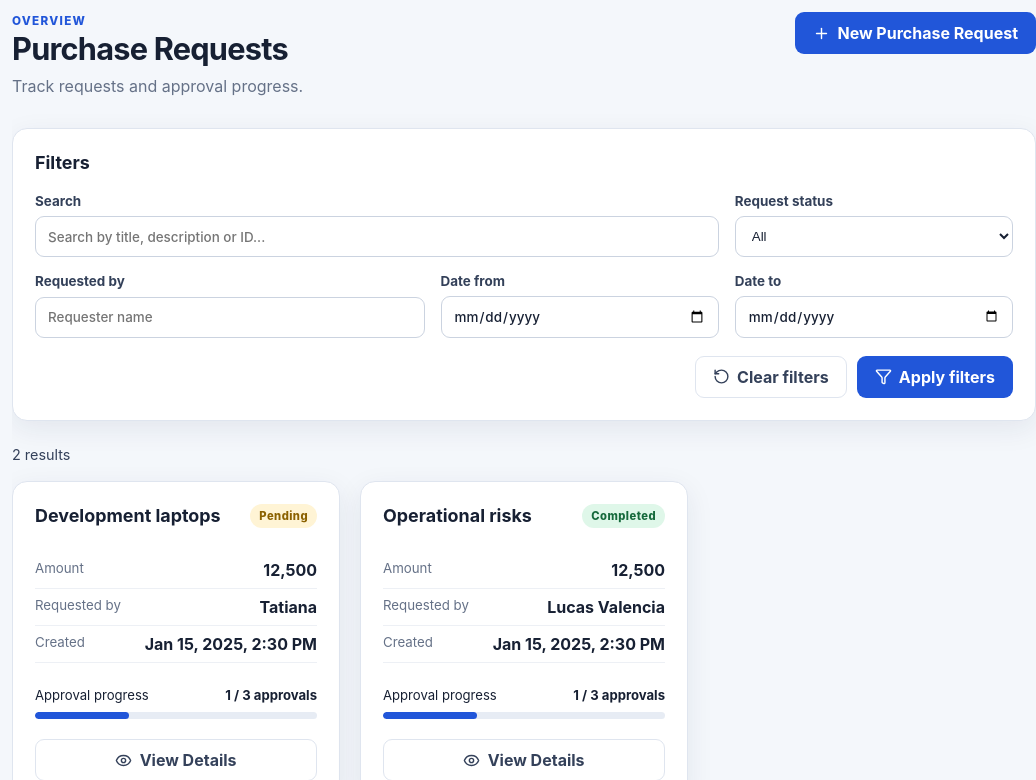
Scenario: DashboardPage › applies and clears combined filters and shows the filtered empty state
Expected: the text "2 results" is shown, [12, 446, 70, 463]
Type "missing" into the field labelled "Search" at {"x": 377, "y": 237}, box [35, 216, 719, 257]
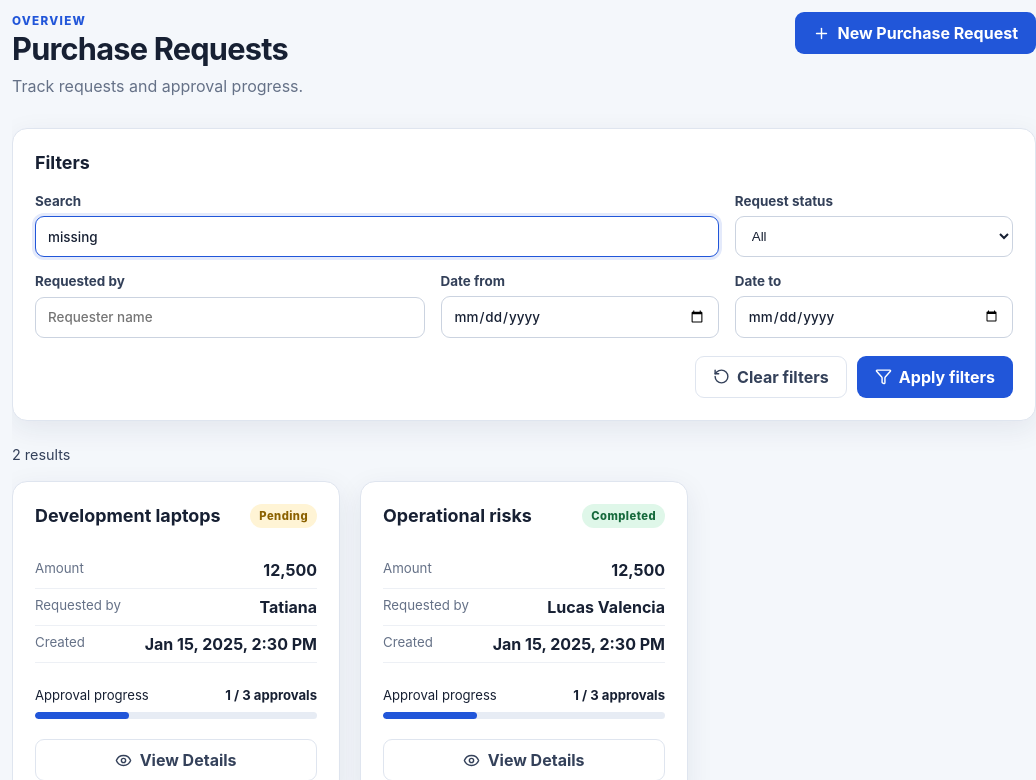
Click the button "Apply filters" at {"x": 935, "y": 377}, box [857, 356, 1013, 398]
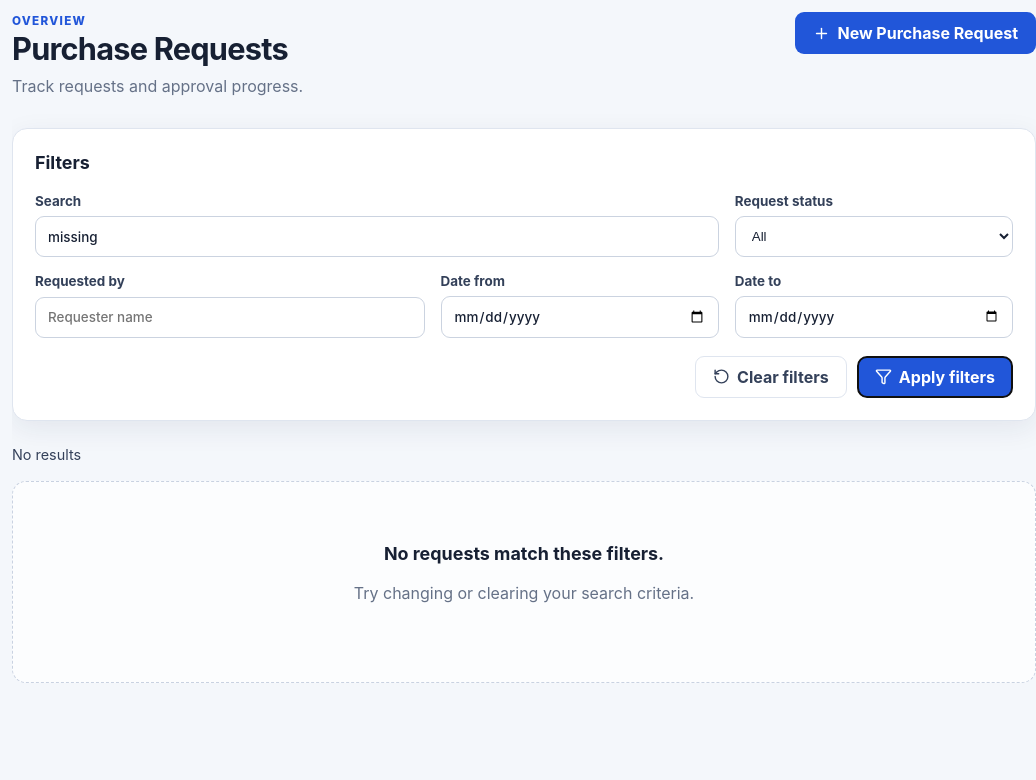
Now the text "No results" is shown, box [12, 446, 81, 463]
Now the heading "No requests match these filters." is shown, box [384, 543, 664, 564]
Click the button "Clear filters" at {"x": 771, "y": 377}, box [695, 356, 847, 398]
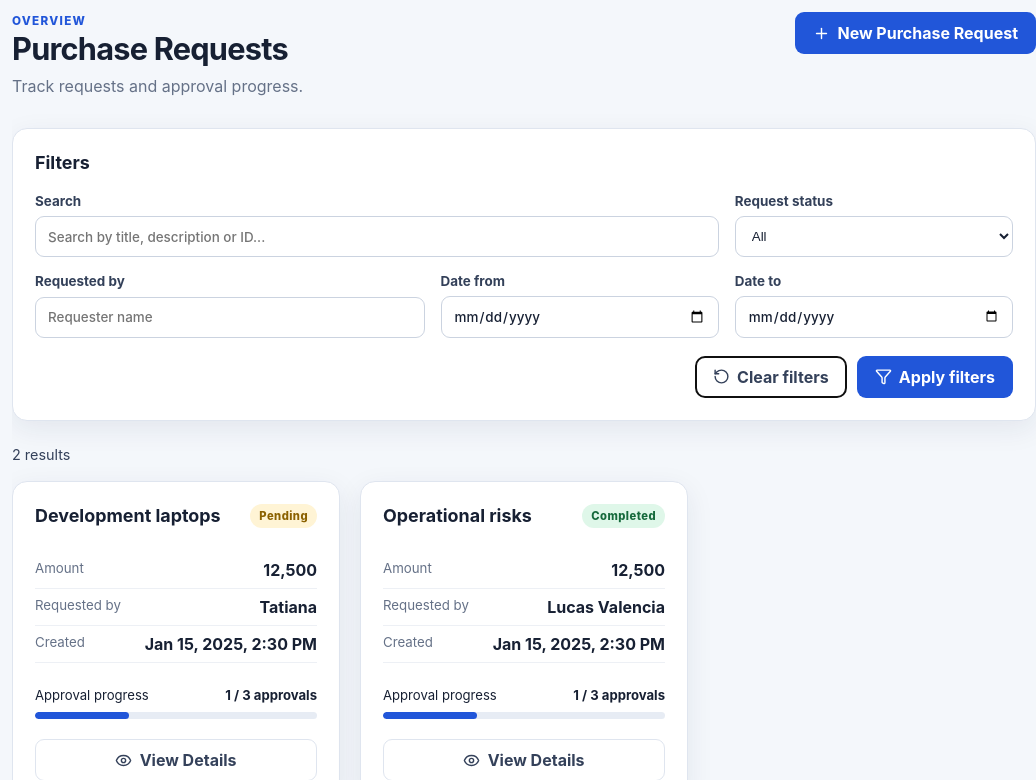
Now the text "2 results" is shown, box [12, 446, 70, 463]
